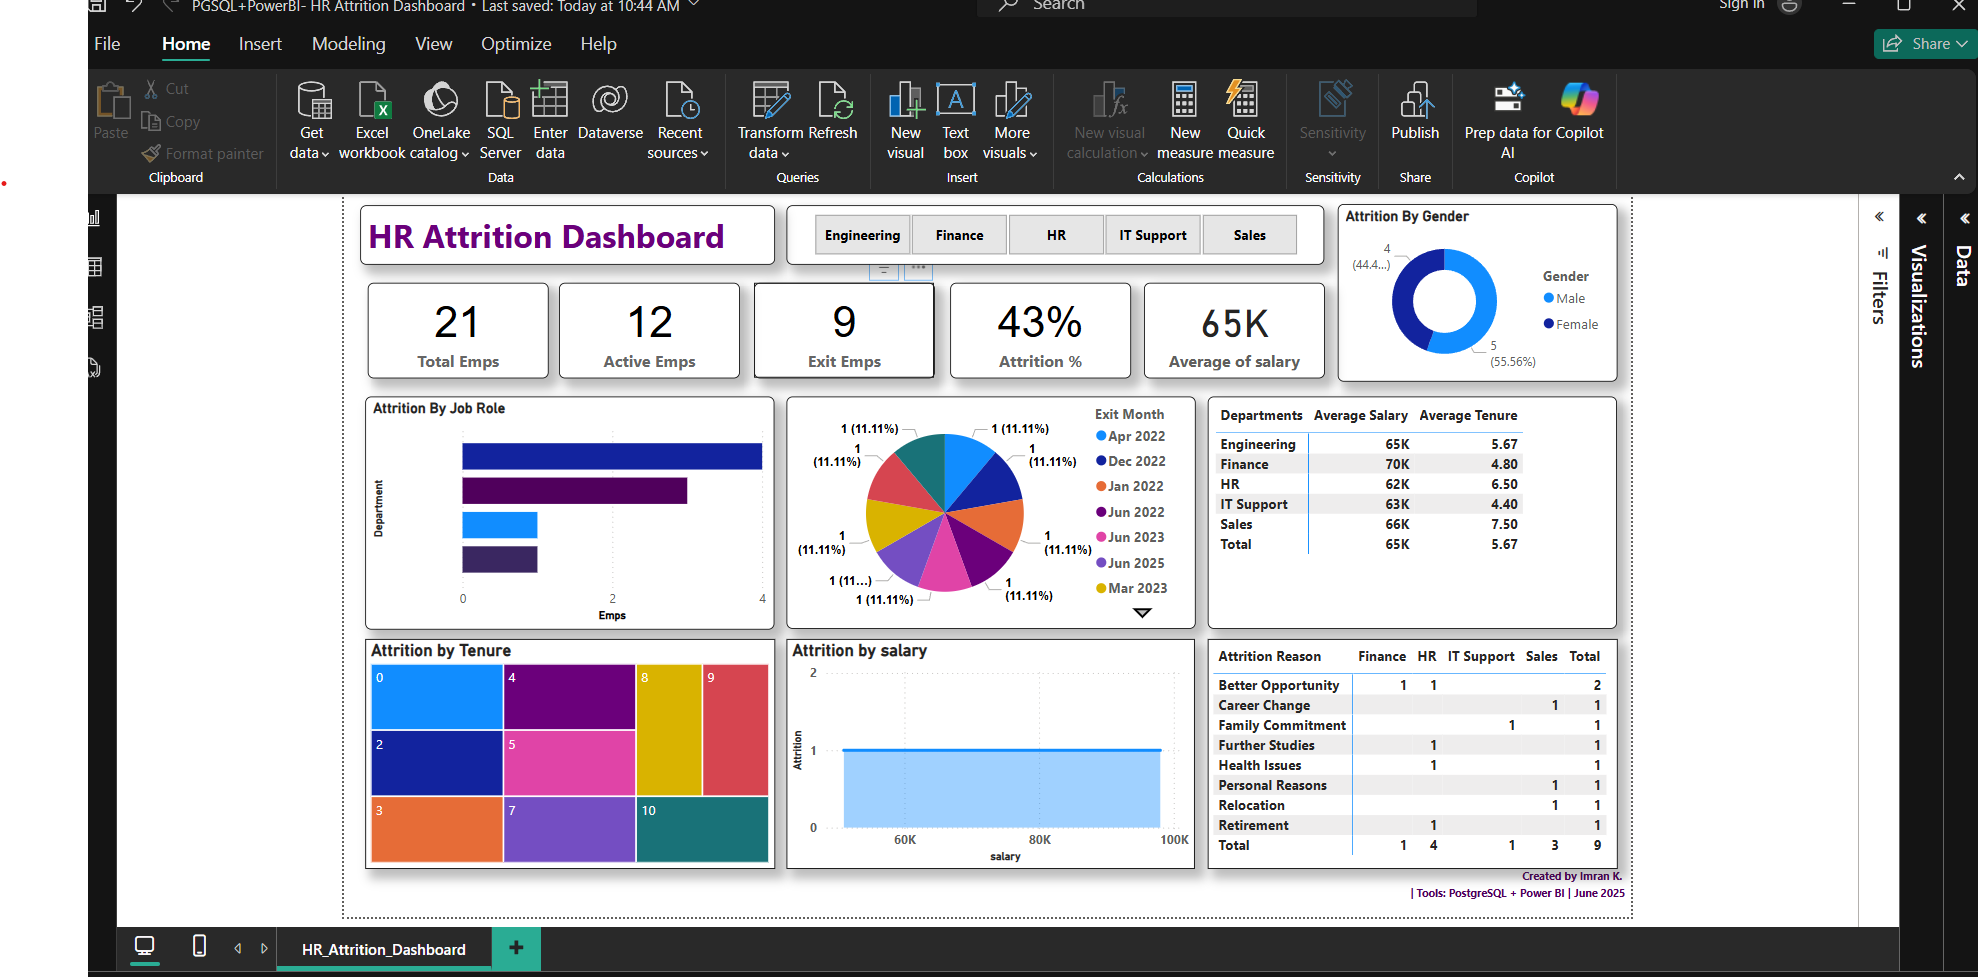

The page's visual inventory and layout, read from the dashboard file:
{"tool":"powerbi","page":{"name":"HR_Attrition_Dashboard","canvas":[1280,720],"ordinal":0},"visuals":[{"type":"card","fields":{"Values":["CountNonNull(Query1.emp_id)"]},"box":[23.1,88.4,180,95],"z":0},{"type":"card","fields":{"Values":["HR_Data.Exit Emps"]},"box":[407.5,87.8,179.8,95],"z":1000},{"type":"card","fields":{"Values":["HR_Data.Active Emps"]},"box":[214.1,87.8,179.8,95],"z":2000},{"type":"card","fields":{"Values":["HR_Data.Attrition %"]},"box":[603.8,87.8,179.8,95],"z":3000},{"type":"slicer","fields":{"Values":["HR_Data.department_name"]},"box":[440.5,11,535.2,59],"z":4000},{"type":"clusteredBarChart","title":"Attrition By Job Role","fields":{"Category":["HR_Data.department_name"],"Y":["HR_Data.Exit Emps"]},"box":[21.4,201.4,407,231.9],"z":5000},{"type":"donutChart","title":"Attrition By Gender","fields":{"Category":["HR_Data.gender"],"Y":["HR_Data.Exit Emps"]},"box":[989.4,9.6,278.6,177],"z":6000},{"type":"textbox","box":[16.5,11,413,59],"z":7000},{"type":"textbox","box":[1053.1,663,227.2,57.2],"z":8000},{"type":"card","fields":{"Values":["Avg(HR_Data.salary)"]},"box":[795.9,87.8,179.8,95],"z":9000},{"type":"pieChart","fields":{"Category":["HR_Data.Exit Month"],"Y":["HR_Data.Exit Emps"]},"box":[440.1,201.5,407.2,231.5],"z":10000},{"type":"pivotTable","fields":{"Rows":["HR_Data.department_name"],"Values":["Avg(HR_Data.salary)","Avg(HR_Data.Tenure)"]},"box":[860.2,201.5,407.2,231.5],"z":11000},{"type":"treemap","fields":{"Group":["HR_Data.Tenure"],"Values":["HR_Data.Exit Emps"]},"box":[21.1,442.8,408,228.9],"z":12000},{"type":"areaChart","fields":{"Y":["HR_Data.Exit Emps"],"Category":["HR_Data.salary"]},"box":[440.4,442.8,406.8,228.9],"z":13000},{"type":"pivotTable","fields":{"Rows":["HR_Data.attrition_reason"],"Values":["HR_Data.Exit Emps"],"Columns":["HR_Data.department_name"]},"box":[859.6,442.8,408,228.9],"z":14000}]}

Visuals, with their boxes on the page's 1280x720 design canvas (x1, y1, x2, y2). These are canvas units, not pixel positions in the 1978x977 screenshot, which may show the page scaled, cropped or inside an application window:
card - CountNonNull(Query1.emp_id): BBox(23, 88, 203, 183)
card - HR_Data.Exit Emps: BBox(408, 88, 587, 183)
card - HR_Data.Active Emps: BBox(214, 88, 394, 183)
card - HR_Data.Attrition %: BBox(604, 88, 784, 183)
slicer - HR_Data.department_name: BBox(440, 11, 976, 70)
"Attrition By Job Role" clusteredBarChart: BBox(21, 201, 428, 433)
"Attrition By Gender" donutChart: BBox(989, 10, 1268, 187)
textbox: BBox(16, 11, 430, 70)
textbox: BBox(1053, 663, 1280, 720)
card - Avg(HR_Data.salary): BBox(796, 88, 976, 183)
pieChart - HR_Data.Exit Month x HR_Data.Exit Emps: BBox(440, 202, 847, 433)
pivotTable - HR_Data.department_name x Avg(HR_Data.salary): BBox(860, 202, 1267, 433)
treemap - HR_Data.Tenure x HR_Data.Exit Emps: BBox(21, 443, 429, 672)
areaChart - HR_Data.Exit Emps x HR_Data.salary: BBox(440, 443, 847, 672)
pivotTable - HR_Data.attrition_reason x HR_Data.Exit Emps: BBox(860, 443, 1268, 672)
